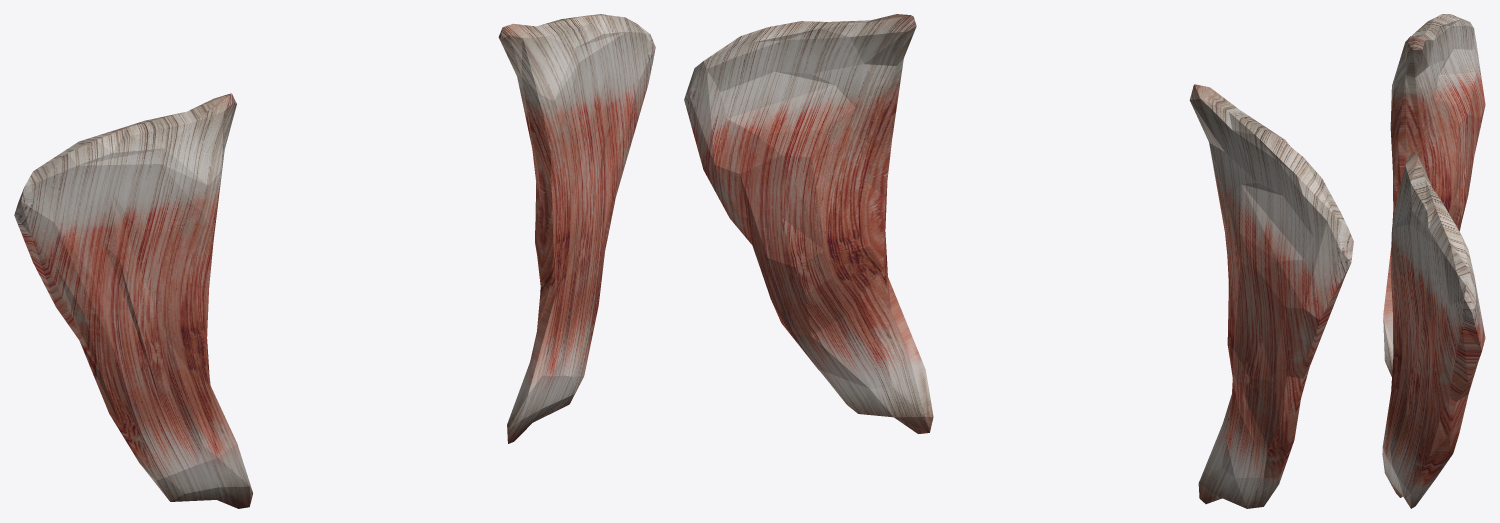
Rendered from Levator_Labi_Superioris.obj.
3 views of the same model, side by side, from view 1: azimuth 30°, elevation 25°; view 2: azimuth 150°, elevation 25°; view 3: azimuth 270°, elevation 25° (orthographic). The views are drawn at different scales.
Visible parts, largest first — view 1: Musculos_Cabeza_1:Levator_Labii_Superioris1; view 2: Musculos_Cabeza_1:Levator_Labii_Superioris1; view 3: Musculos_Cabeza_1:Levator_Labii_Superioris1.
Part boxes in pixels (<box>): Musculos_Cabeza_1:Levator_Labii_Superioris1: <box>14,14,655,508</box>; Musculos_Cabeza_1:Levator_Labii_Superioris1: <box>684,14,1353,508</box>; Musculos_Cabeza_1:Levator_Labii_Superioris1: <box>1382,14,1485,508</box>.
Bounding box in the file's own units: 0.3063 × 0.1871 × 0.0505.
Materials: 1 (1 with a texture image).
